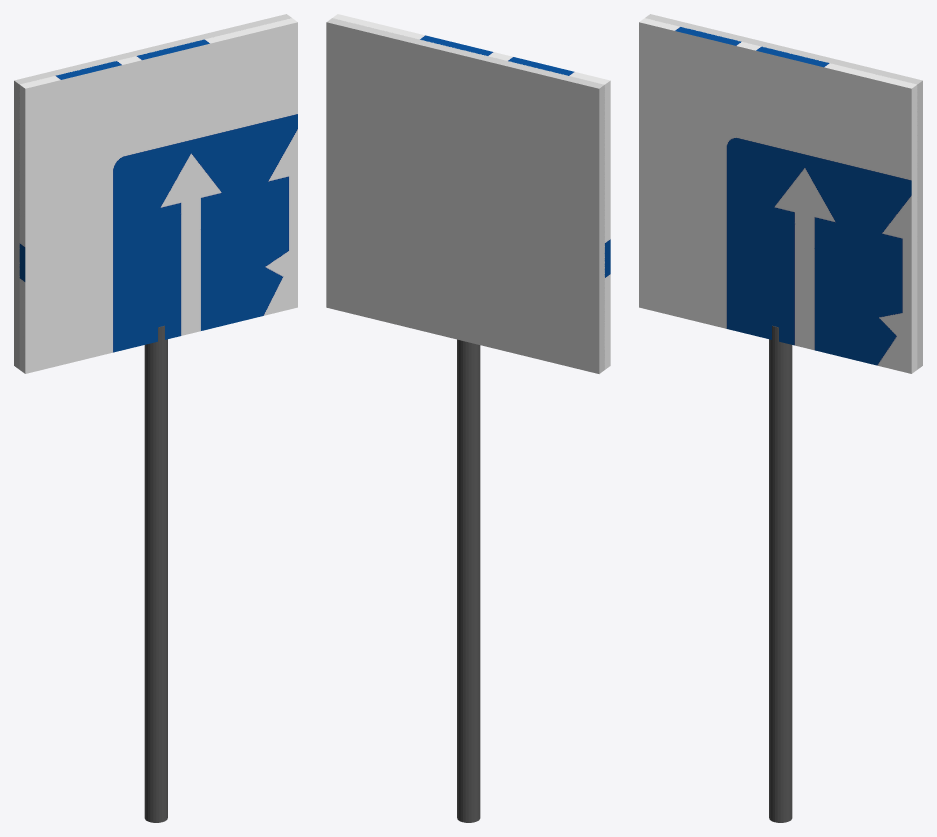
Rendered from teknofest_sign_serit_duzenleme_levhasi_sag.fbx.
3 views of the same model, side by side, from view 1: azimuth 30°, elevation 25°; view 2: azimuth 150°, elevation 25°; view 3: azimuth 330°, elevation 25° (orthographic).
Parts seen in each view (by area): view 1: teknofest_sign_serit_duzenleme_levhasi_sag_board, teknofest_sign_serit_duzenleme_levhasi_sag_pole, teknofest_sign_serit_duzenleme_levhasi_sag_back; view 2: teknofest_sign_serit_duzenleme_levhasi_sag_back, teknofest_sign_serit_duzenleme_levhasi_sag_pole, teknofest_sign_serit_duzenleme_levhasi_sag_board; view 3: teknofest_sign_serit_duzenleme_levhasi_sag_board, teknofest_sign_serit_duzenleme_levhasi_sag_pole, teknofest_sign_serit_duzenleme_levhasi_sag_back.
Boxes of the visible parts, x1=… form: teknofest_sign_serit_duzenleme_levhasi_sag_board: x1=19, y1=18, x2=297, y2=373; teknofest_sign_serit_duzenleme_levhasi_sag_pole: x1=144, y1=325, x2=167, y2=822; teknofest_sign_serit_duzenleme_levhasi_sag_back: x1=14, y1=14, x2=291, y2=369; teknofest_sign_serit_duzenleme_levhasi_sag_back: x1=326, y1=18, x2=604, y2=373; teknofest_sign_serit_duzenleme_levhasi_sag_pole: x1=457, y1=339, x2=480, y2=822; teknofest_sign_serit_duzenleme_levhasi_sag_board: x1=333, y1=14, x2=610, y2=369; teknofest_sign_serit_duzenleme_levhasi_sag_board: x1=639, y1=18, x2=917, y2=373; teknofest_sign_serit_duzenleme_levhasi_sag_pole: x1=769, y1=325, x2=792, y2=822; teknofest_sign_serit_duzenleme_levhasi_sag_back: x1=645, y1=14, x2=922, y2=369.
Bounding box in the file's own units: 95 × 255 × 7.05.
3 materials, 1 textured.
